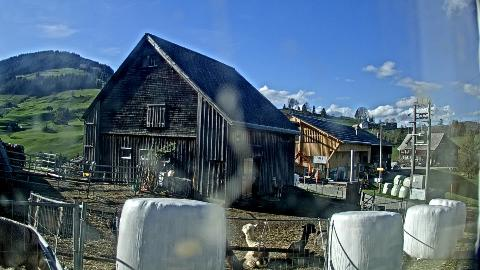car: (393, 165, 401, 171), (418, 162, 426, 166)
sheep: (0, 216, 48, 270), (286, 223, 316, 265), (243, 223, 270, 267), (226, 235, 246, 270), (271, 175, 282, 197), (316, 230, 328, 248), (252, 175, 260, 191), (252, 176, 256, 184)
